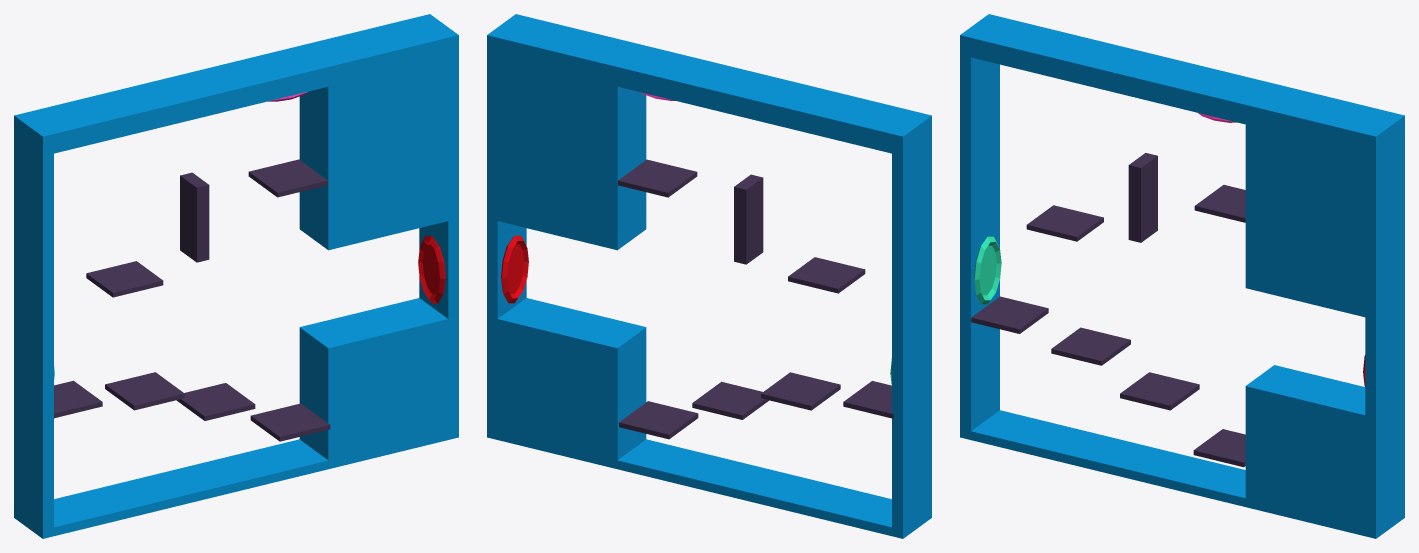
The model's file is SalaA.glb.
3 renders of one model, left to right at view 1: azimuth 30°, elevation 25°; view 2: azimuth 150°, elevation 25°; view 3: azimuth 330°, elevation 25°, orthographic.
Parts seen in each view (by area): view 1: MeshA-col, plataforma.002-col, plataforma.006-col, plataforma.004-col, plataforma.008-col, plataforma.005-col, plataforma.003-col, portalRed, plataforma.007-col; view 2: MeshA-col, plataforma.002-col, plataforma.006-col, plataforma.004-col, plataforma.008-col, plataforma.005-col, plataforma.003-col, portalRed, plataforma.007-col; view 3: MeshA-col, plataforma.002-col, plataforma.005-col, plataforma.006-col, plataforma.007-col, plataforma.003-col, portalVerde, plataforma.004-col, plataforma.008-col.
Part boxes in pixels (left/top/right/bottom): MeshA-col: left=14, top=14, right=458, bottom=538; plataforma.002-col: left=180, top=172, right=209, bottom=262; plataforma.006-col: left=105, top=372, right=184, bottom=410; plataforma.004-col: left=250, top=403, right=330, bottom=441; plataforma.008-col: left=248, top=159, right=327, bottom=197; plataforma.005-col: left=176, top=383, right=255, bottom=420; plataforma.003-col: left=86, top=261, right=163, bottom=297; portalRed: left=418, top=236, right=445, bottom=303; plataforma.007-col: left=54, top=380, right=102, bottom=418; MeshA-col: left=487, top=14, right=931, bottom=538; plataforma.002-col: left=734, top=174, right=763, bottom=264; plataforma.006-col: left=761, top=372, right=840, bottom=410; plataforma.004-col: left=619, top=401, right=698, bottom=439; plataforma.008-col: left=618, top=159, right=697, bottom=197; plataforma.005-col: left=692, top=381, right=768, bottom=419; plataforma.003-col: left=788, top=257, right=865, bottom=293; portalRed: left=501, top=235, right=528, bottom=303; plataforma.007-col: left=843, top=381, right=893, bottom=418; MeshA-col: left=960, top=14, right=1404, bottom=538; plataforma.002-col: left=1128, top=153, right=1157, bottom=242; plataforma.005-col: left=1120, top=372, right=1199, bottom=410; plataforma.006-col: left=1051, top=327, right=1130, bottom=365; plataforma.007-col: left=971, top=296, right=1048, bottom=333; plataforma.003-col: left=1026, top=205, right=1103, bottom=241; portalVerde: left=974, top=236, right=1001, bottom=304; plataforma.004-col: left=1193, top=429, right=1245, bottom=467; plataforma.008-col: left=1194, top=185, right=1245, bottom=222.
Size of the model in its own units: 97.31 by 89.91 by 12.52.
